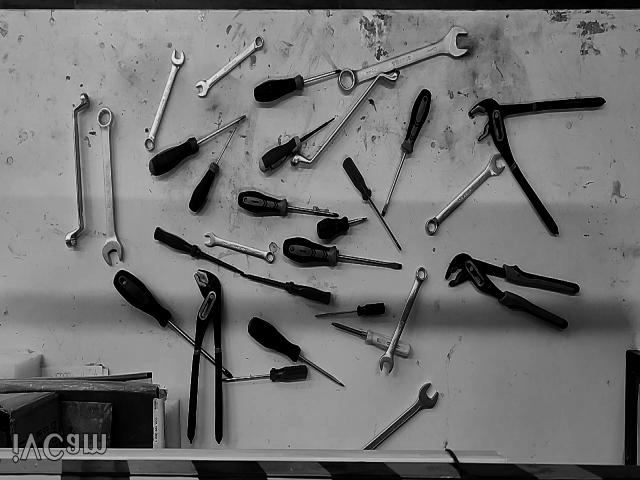Gas wrench: (469, 98, 605, 235), (445, 253, 579, 330), (188, 270, 222, 444)
Screwdriver: (114, 271, 235, 378), (249, 317, 344, 386), (381, 90, 431, 217), (149, 115, 246, 177), (342, 157, 401, 252), (155, 227, 245, 276), (259, 117, 335, 173), (189, 127, 238, 212), (282, 238, 401, 270), (253, 70, 342, 102), (238, 191, 339, 218), (330, 323, 410, 357), (244, 276, 331, 305), (222, 365, 308, 383), (318, 217, 367, 240), (314, 304, 385, 317)
Wrench: (291, 71, 399, 167), (338, 27, 468, 95), (425, 155, 505, 235), (379, 267, 428, 373), (364, 384, 439, 449), (195, 37, 264, 98), (145, 49, 185, 152), (98, 108, 124, 265), (65, 93, 90, 248), (204, 232, 275, 263)
